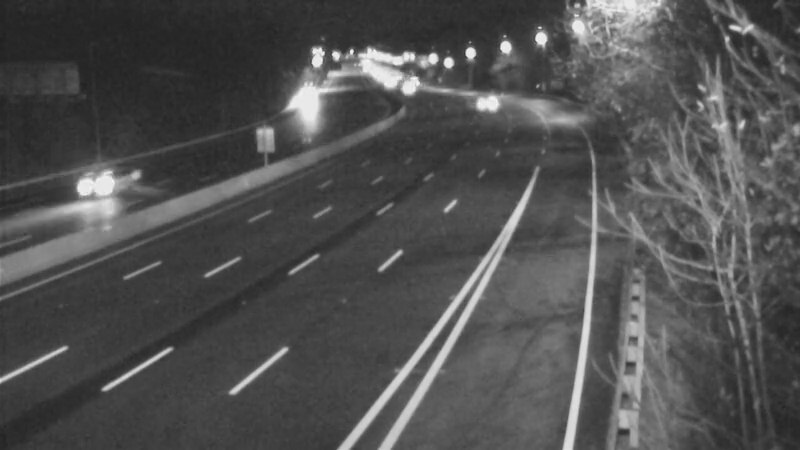vehicle: (57, 142, 137, 222), (381, 63, 431, 113), (459, 79, 509, 129)
